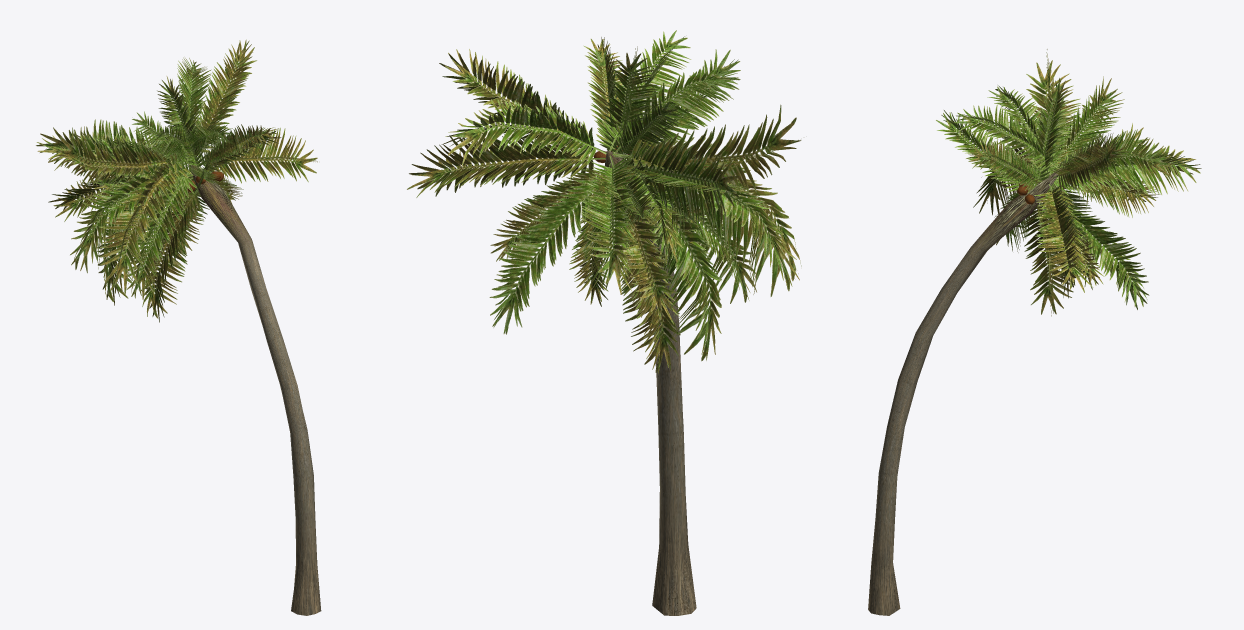
Rendered from coconut_palm2.fbx.
3 views of the same model, side by side, from view 1: azimuth 30°, elevation 25°; view 2: azimuth 150°, elevation 25°; view 3: azimuth 270°, elevation 25° (orthographic). The views are drawn at different scales.
Visible parts, largest first — view 1: coconut_palm2_leaves, coconut_palm2_trunk; view 2: coconut_palm2_leaves, coconut_palm2_trunk; view 3: coconut_palm2_leaves, coconut_palm2_trunk.
Part boxes in pixels (x1,y1,x2,y2): coconut_palm2_leaves: (36,39,317,322); coconut_palm2_trunk: (187,159,321,615); coconut_palm2_leaves: (407,30,801,373); coconut_palm2_trunk: (605,150,696,615); coconut_palm2_leaves: (936,49,1201,316); coconut_palm2_trunk: (868,168,1062,615).
Size of the model in its own units: 373 by 572 by 361.
